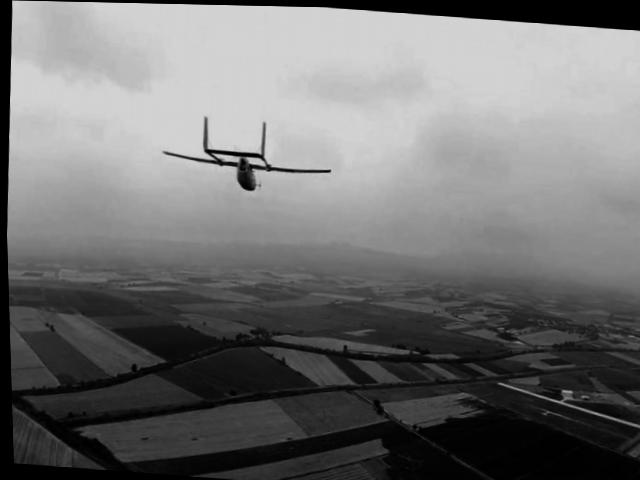hedef: (153, 108, 341, 206)
